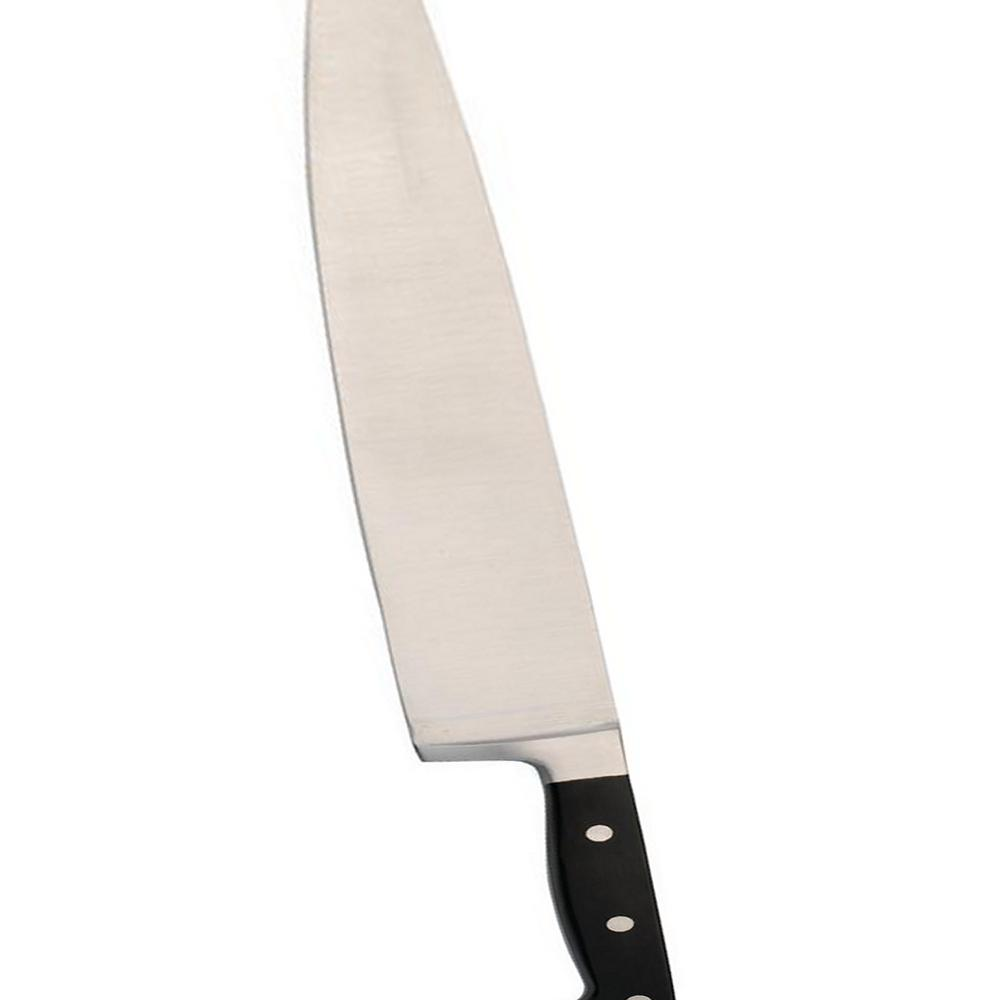knife: (299, 4, 676, 1000)
